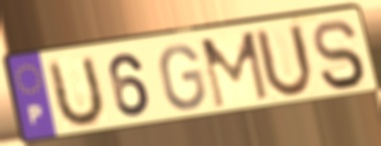6: (106, 51, 153, 120)
G: (157, 42, 209, 113)
M: (197, 28, 272, 112)
S: (310, 17, 369, 93)
U: (252, 22, 317, 102), (46, 52, 108, 132)
